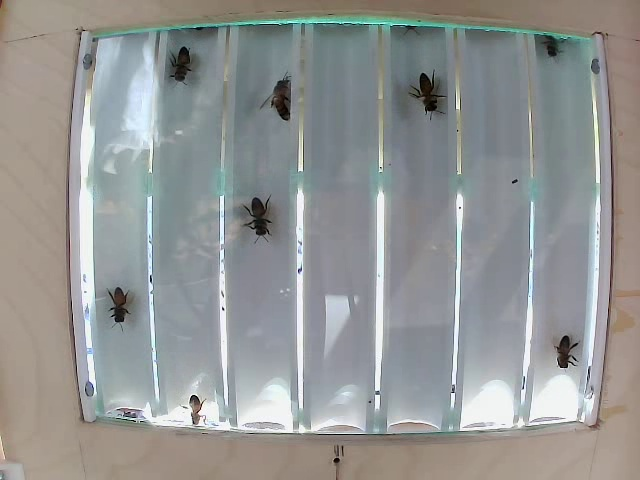bee: (266, 65, 312, 132), (162, 43, 214, 102), (232, 187, 277, 245), (404, 71, 447, 119), (107, 281, 139, 340)
